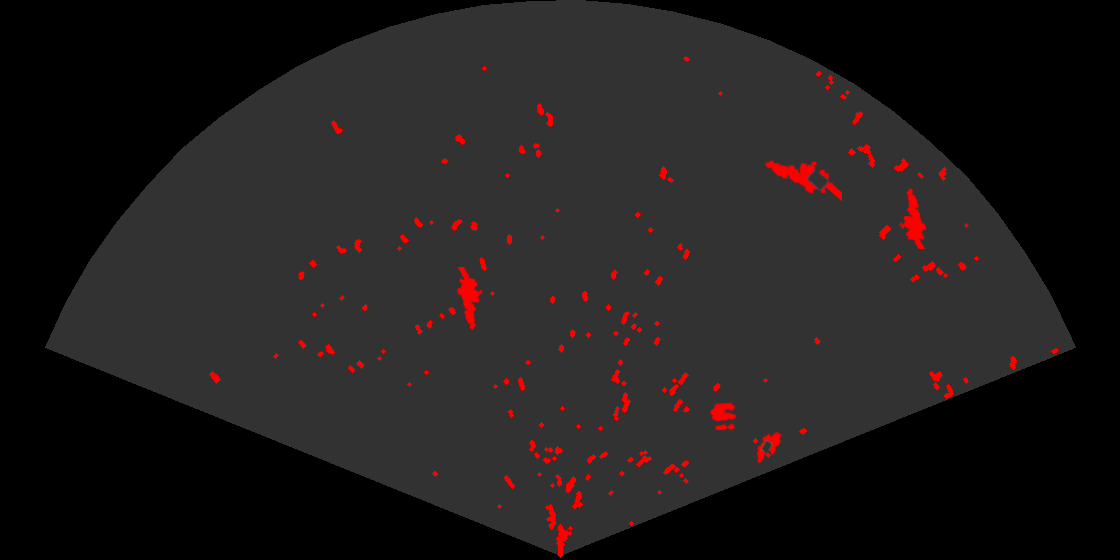AUV: (755, 430, 783, 465)
ball: (708, 401, 739, 432)
frogman: (763, 159, 842, 203), (455, 267, 484, 332), (899, 187, 928, 249)
